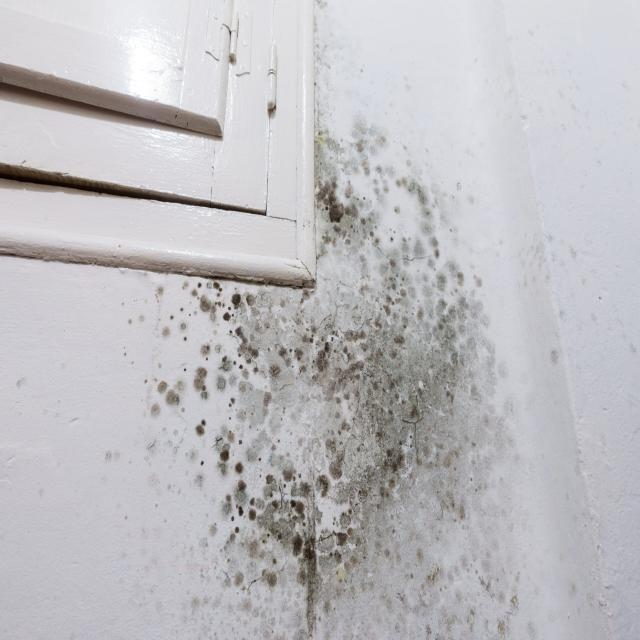stain_mould: (131, 122, 519, 639)
